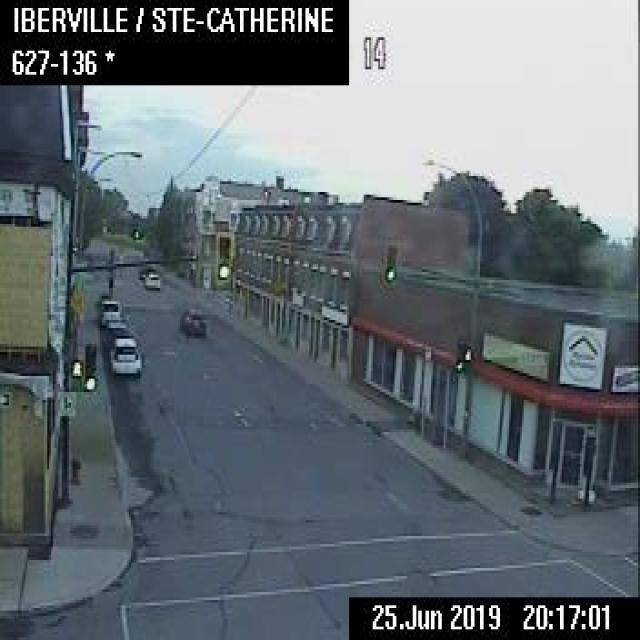vehicle: (109, 335, 141, 374), (178, 304, 205, 334), (100, 317, 126, 346), (98, 296, 122, 323), (137, 261, 155, 278), (143, 270, 159, 288)
